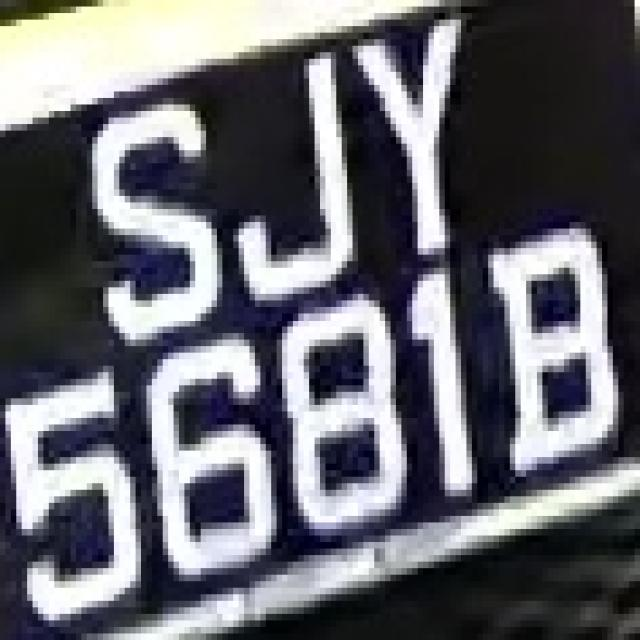1: (396, 255, 477, 529)
5: (0, 352, 141, 620)
6: (130, 333, 298, 575)
8: (272, 294, 402, 535)
B: (472, 216, 624, 484)
J: (212, 32, 364, 300)
S: (70, 72, 228, 346)
Y: (347, 7, 477, 242)
